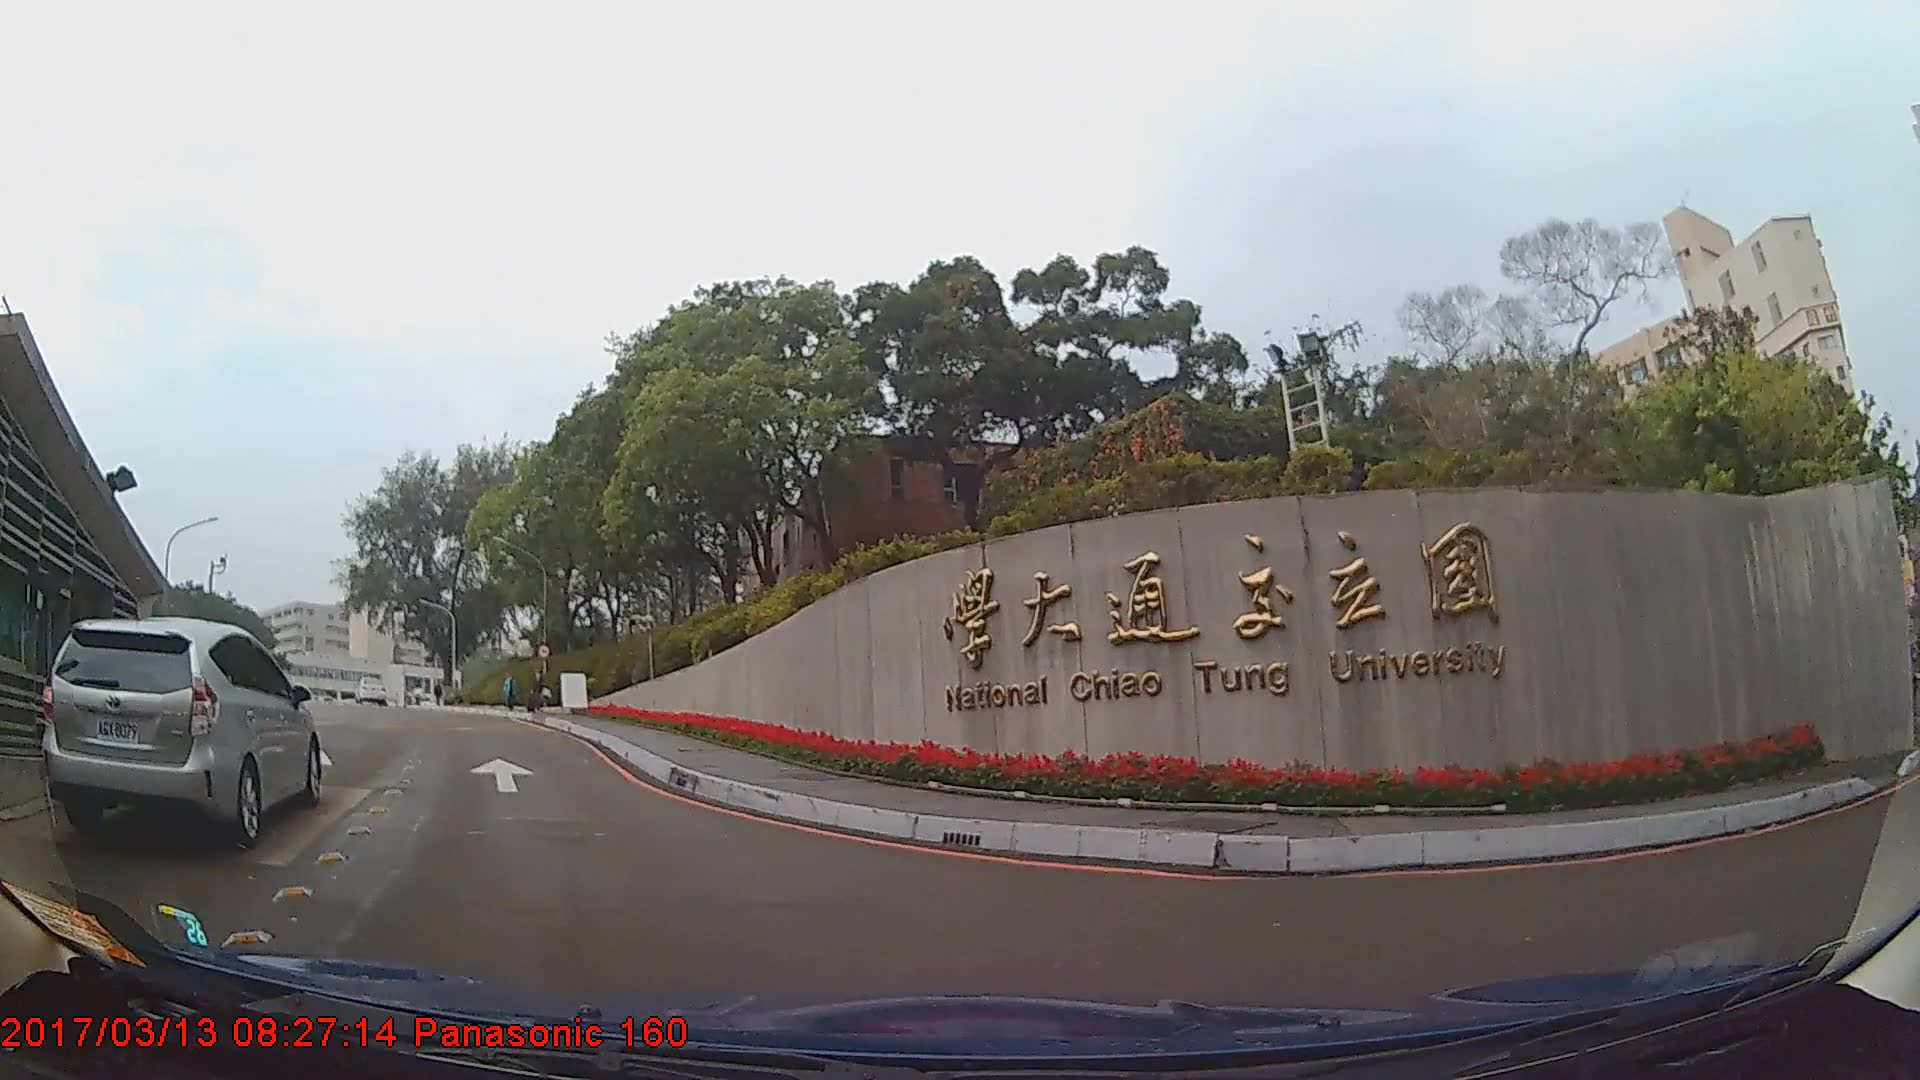vehicle: (41, 615, 322, 848), (353, 676, 386, 705)
